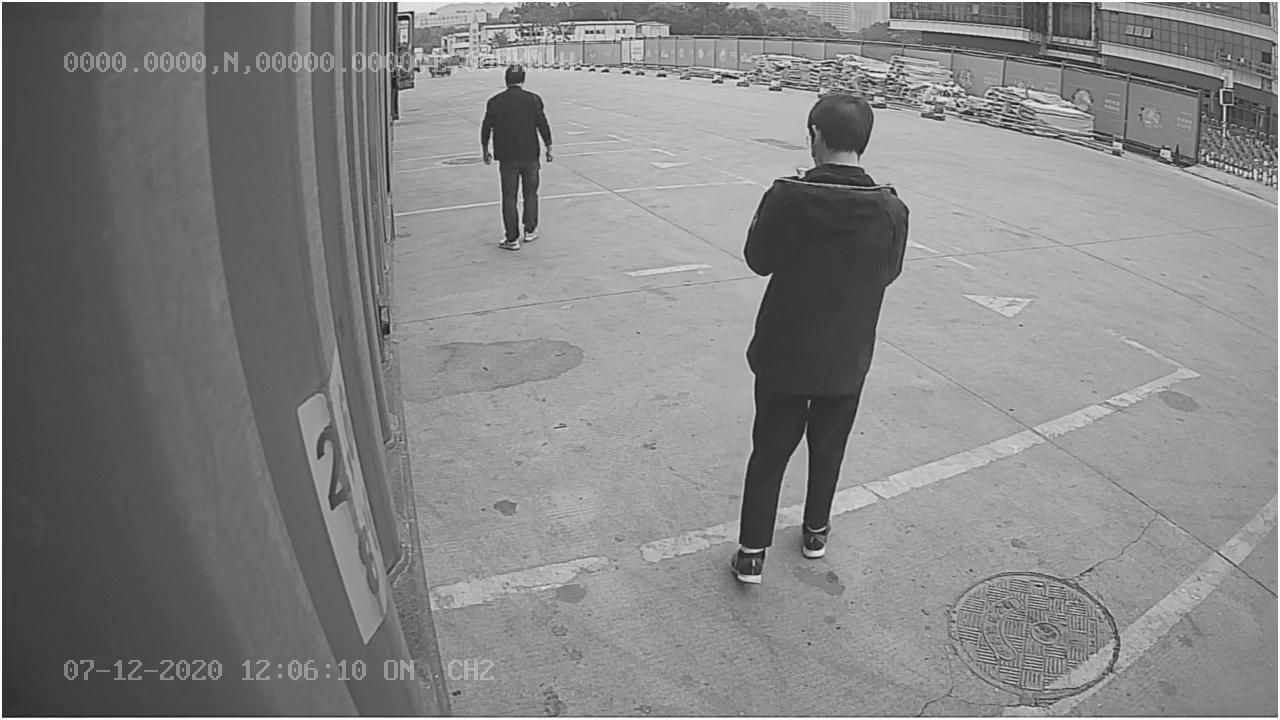person: (725, 79, 909, 592)
